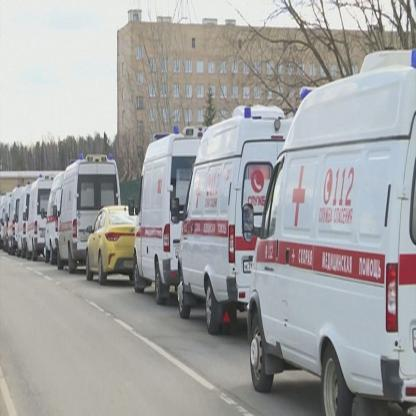Ambulance - v1 Ambulance last generate: (251, 35, 415, 415), (172, 100, 298, 318), (129, 121, 212, 292), (56, 150, 124, 270), (40, 166, 70, 266), (26, 172, 56, 258), (18, 180, 36, 257), (8, 184, 22, 248)
